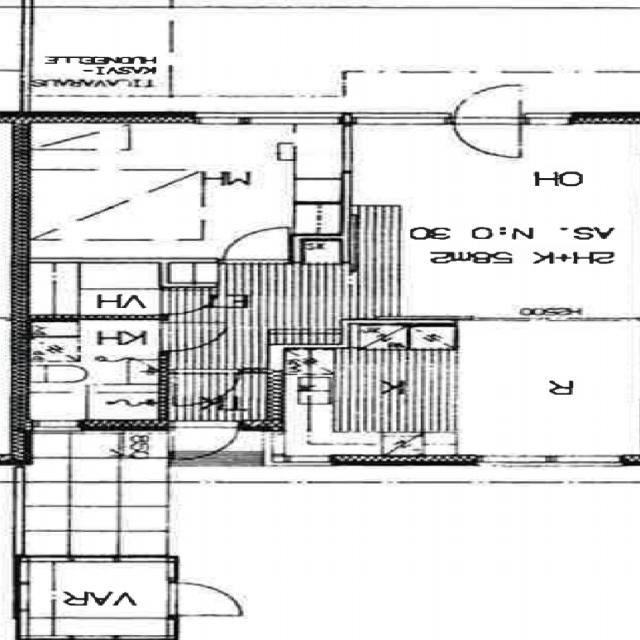door: (454, 77, 520, 123), (454, 111, 520, 156), (172, 421, 238, 464), (166, 582, 243, 616), (224, 224, 290, 262), (174, 369, 239, 405), (158, 322, 226, 352), (159, 290, 214, 314)
